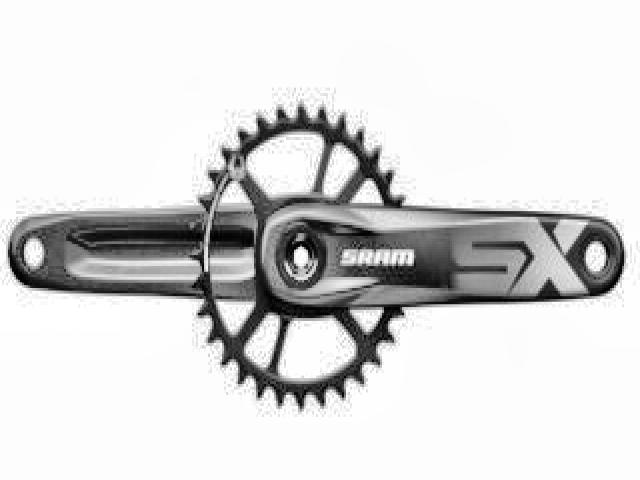cranks_set: (193, 101, 626, 408)
